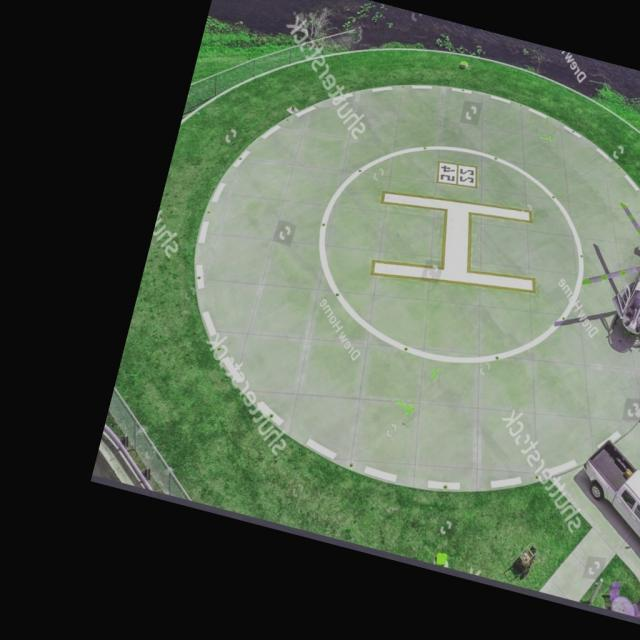helipad: (312, 141, 585, 366)
